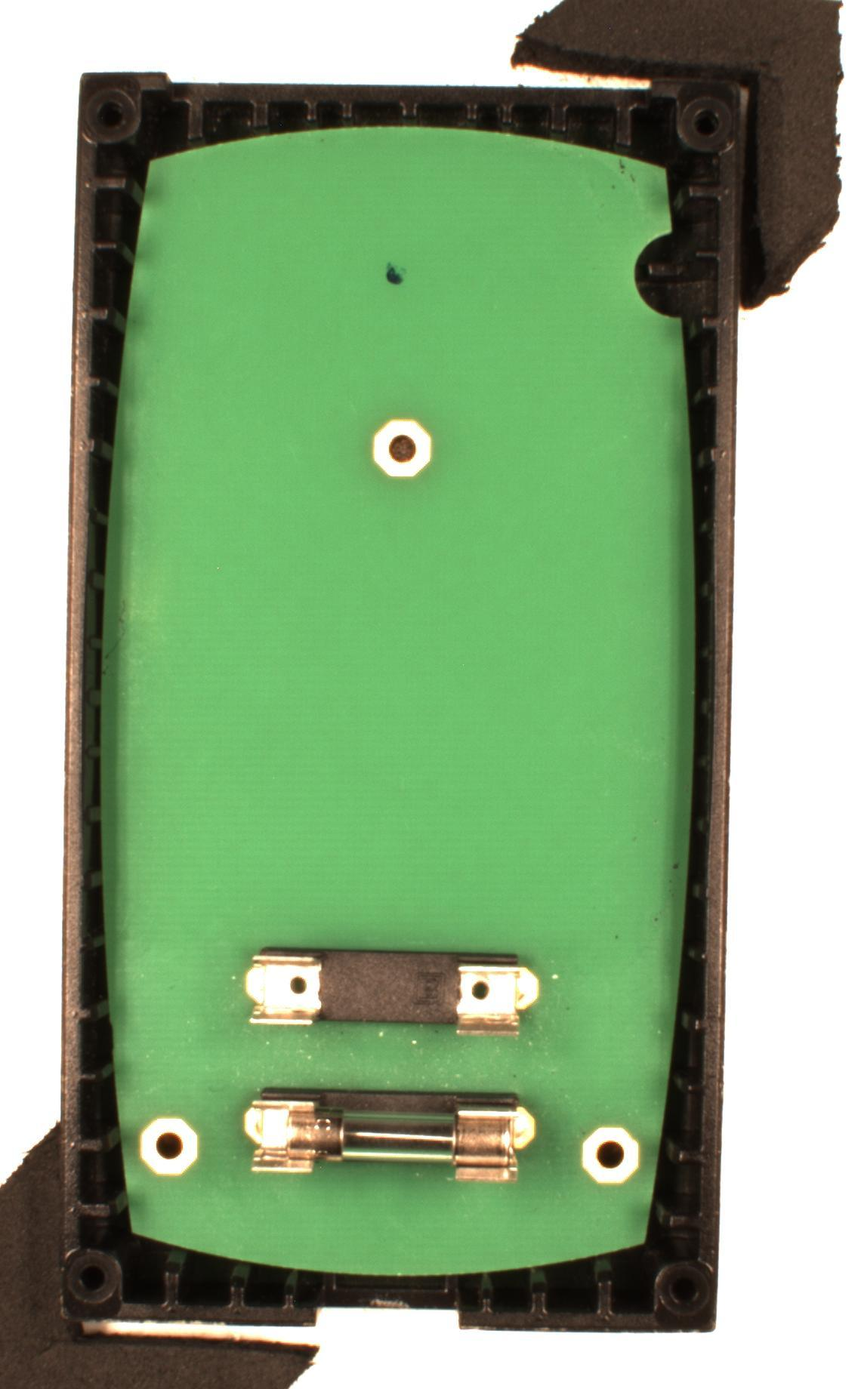Nepostojanje osiguraca: (246, 944, 544, 1038)
Tockasto Ostecenje: (383, 259, 406, 286)
